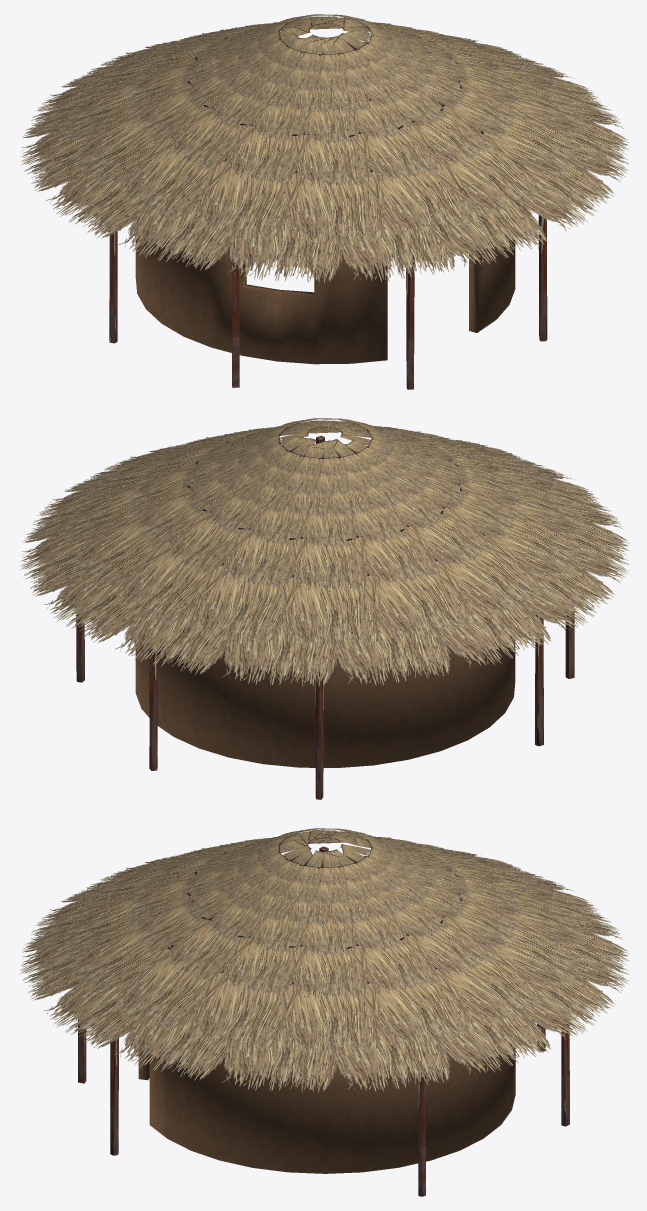
3 renders of one model, top to bottom at view 1: azimuth 30°, elevation 25°; view 2: azimuth 150°, elevation 25°; view 3: azimuth 270°, elevation 25°, orthographic.
Parts seen in each view (by area): view 1: HUt_0; view 2: HUt_0; view 3: HUt_0.
Boxes of the visible parts, <box> form: HUt_0: <box>20,14,629,389</box>; HUt_0: <box>20,418,629,799</box>; HUt_0: <box>19,828,629,1196</box>.
Size of the model in its own units: 0.5655 by 0.2613 by 0.5722.
3 materials, 3 textured.
